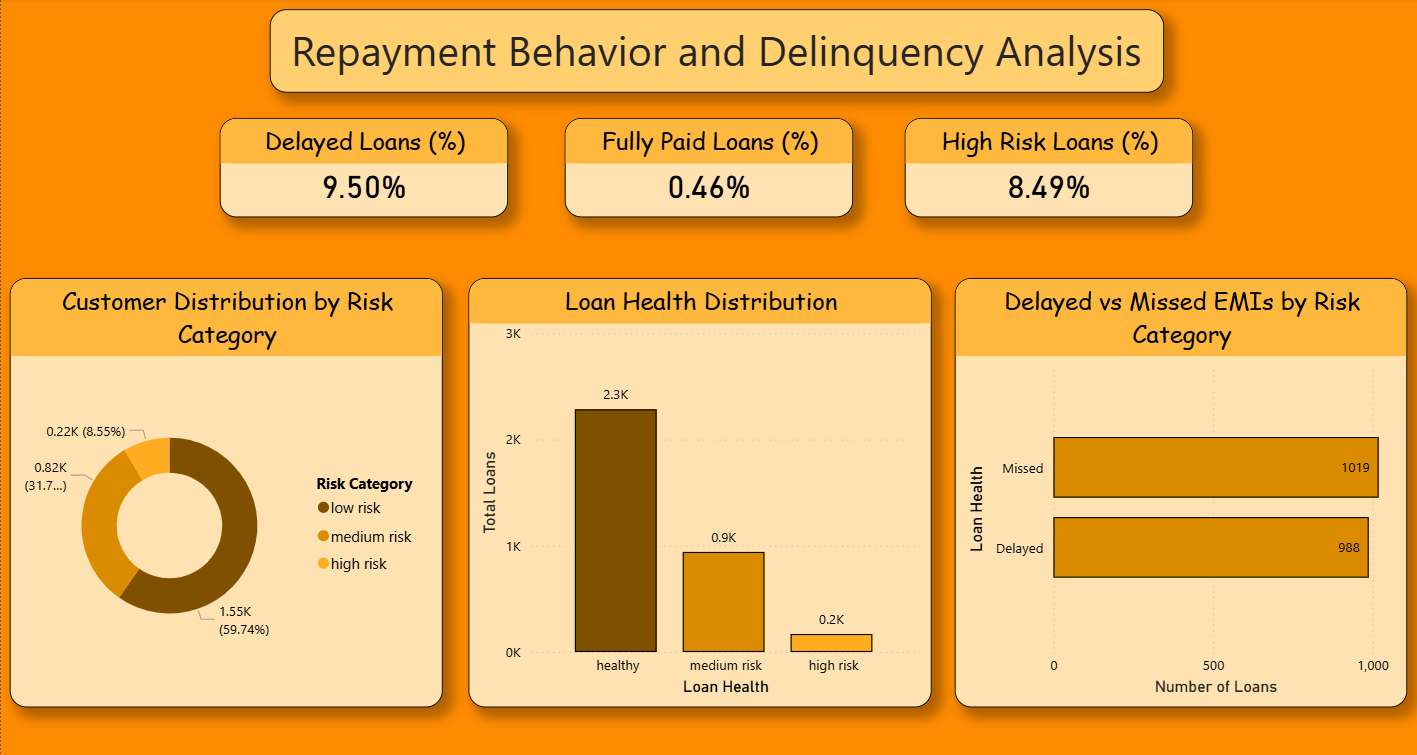

This screenshot's page, from the dashboard's own definition file:
{"tool":"powerbi","page":{"name":"Repayment Behavior and Delinquency Analysis","canvas":[1280,720],"ordinal":3},"visuals":[{"type":"card","title":"Delayed Loans (%)","fields":{"Values":["All Measures.%_Loan_Delays"]},"box":[197.8,108.2,260,89.6],"z":0},{"type":"textbox","box":[242.9,10.3,806.1,74.9],"z":1000},{"type":"card","title":"Fully Paid Loans (%)","fields":{"Values":["All Measures.% Fully Paid Loans"]},"box":[508.8,108.2,260,89.6],"z":2000},{"type":"card","title":"High Risk Loans (%)","fields":{"Values":["All Measures.High_Risk_Loans"]},"box":[814.8,108.2,260,89.6],"z":3000},{"type":"donutChart","title":"Customer Distribution by Risk Category","fields":{"Y":["CountNonNull(bank_db customer_delinquency_summary.customer_id)"],"Category":["bank_db customer_delinquency_summary.risk_category"]},"box":[7.5,252.5,390.6,386.9],"z":4000},{"type":"columnChart","title":"Loan Health Distribution","fields":{"Y":["CountNonNull(bank_db loan_delinquency_summary.loan_id)"],"Category":["bank_db loan_delinquency_summary.loan_health"]},"box":[421.7,252.5,418,386.9],"z":5000},{"type":"barChart","title":"Delayed vs Missed EMIs by Risk Category","fields":{"Category":["bank_db loan_late_repayments_summary.payment_status"],"Y":["Count(bank_db loan_late_repayments_summary.loan_id)"]},"box":[859.6,252.5,408,386.9],"z":6000}]}

Visuals, with their boxes on the page's 1280x720 design canvas (x1, y1, x2, y2). These are canvas units, not pixel positions in the 1417x755 screenshot, which may show the page scaled, cropped or inside an application window:
"Delayed Loans (%)" card: 198/108/458/198
textbox: 243/10/1049/85
"Fully Paid Loans (%)" card: 509/108/769/198
"High Risk Loans (%)" card: 815/108/1075/198
"Customer Distribution by Risk Category" donutChart: 8/252/398/639
"Loan Health Distribution" columnChart: 422/252/840/639
"Delayed vs Missed EMIs by Risk Category" barChart: 860/252/1268/639
